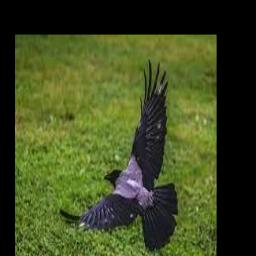Crow: (58, 60, 178, 252)
